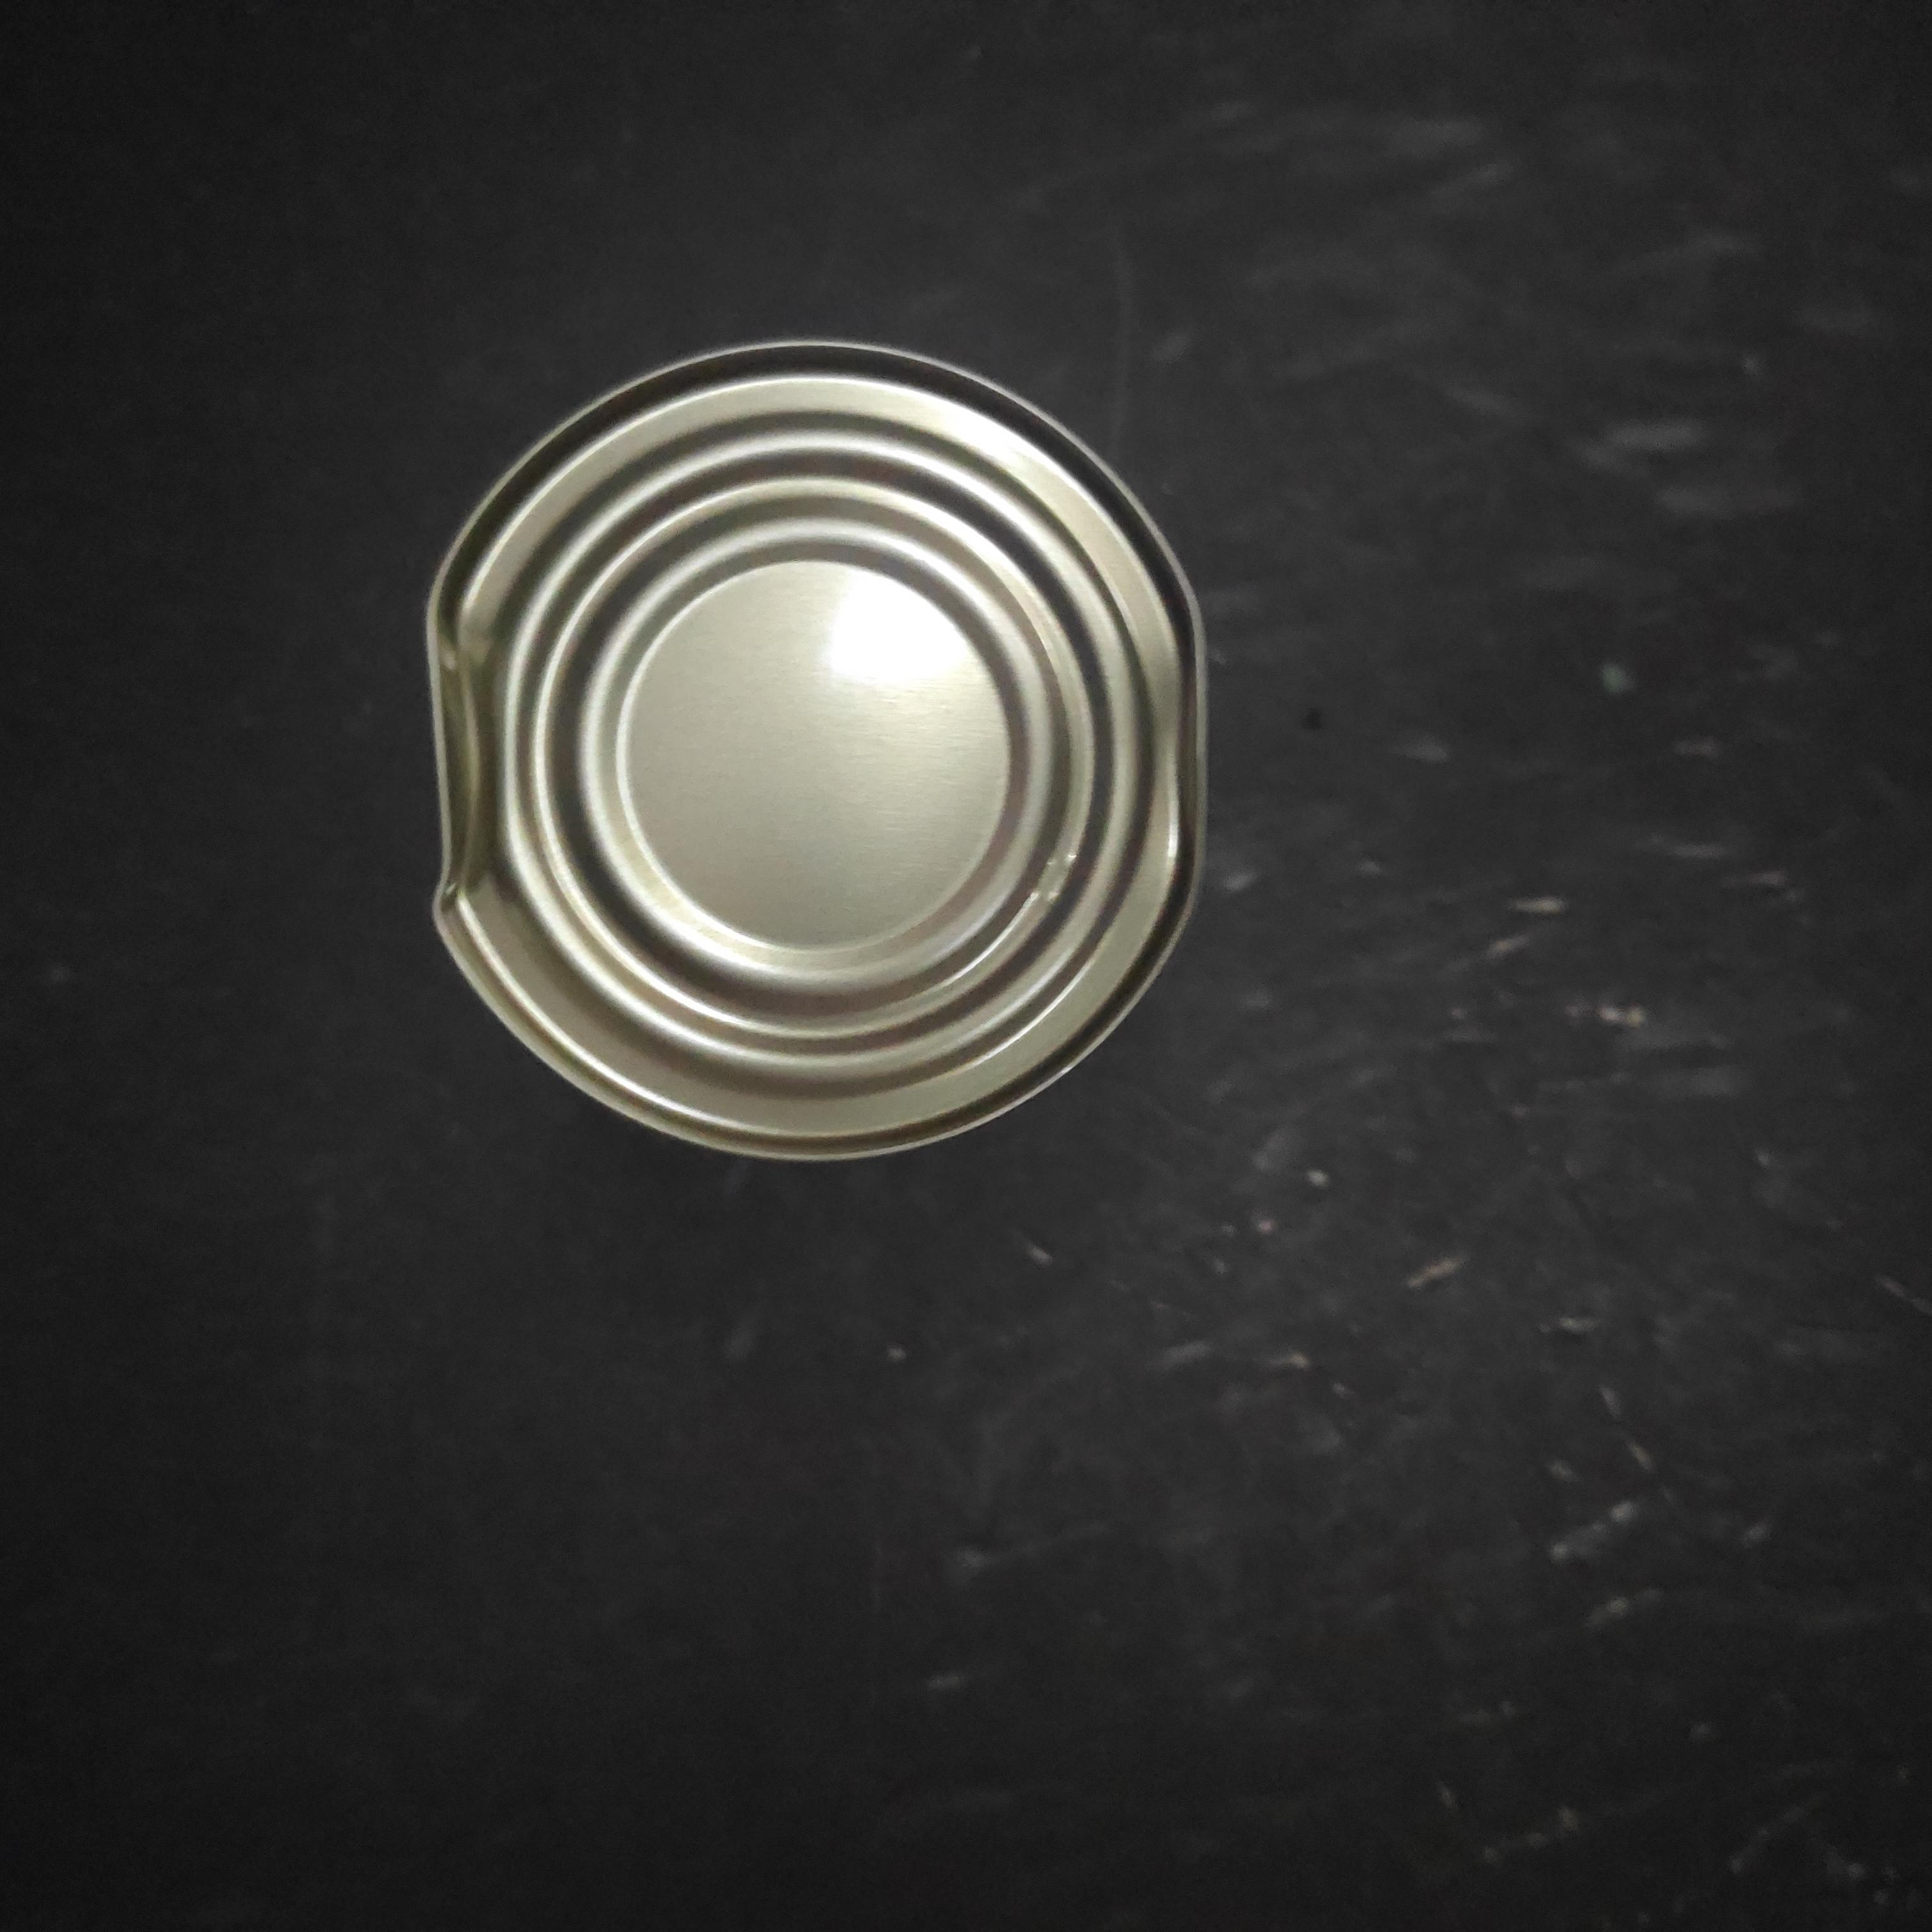Minor Defect: (708, 755, 1534, 1612)
